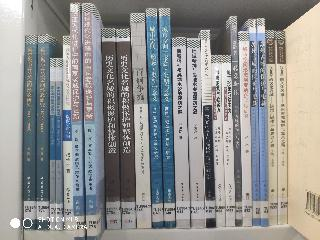book-spine: (101, 28, 121, 229), (131, 14, 149, 228), (82, 4, 98, 240), (146, 10, 163, 227), (117, 30, 135, 228), (69, 4, 84, 240), (172, 38, 190, 227), (159, 9, 174, 228), (187, 39, 204, 227), (201, 31, 215, 227), (221, 56, 235, 225), (265, 31, 277, 225), (257, 19, 268, 225), (212, 56, 225, 226), (240, 32, 251, 226), (25, 36, 36, 229), (62, 37, 73, 228), (276, 32, 287, 223), (231, 17, 241, 225), (249, 20, 259, 225), (38, 35, 48, 228), (56, 59, 63, 229), (51, 59, 55, 228)
